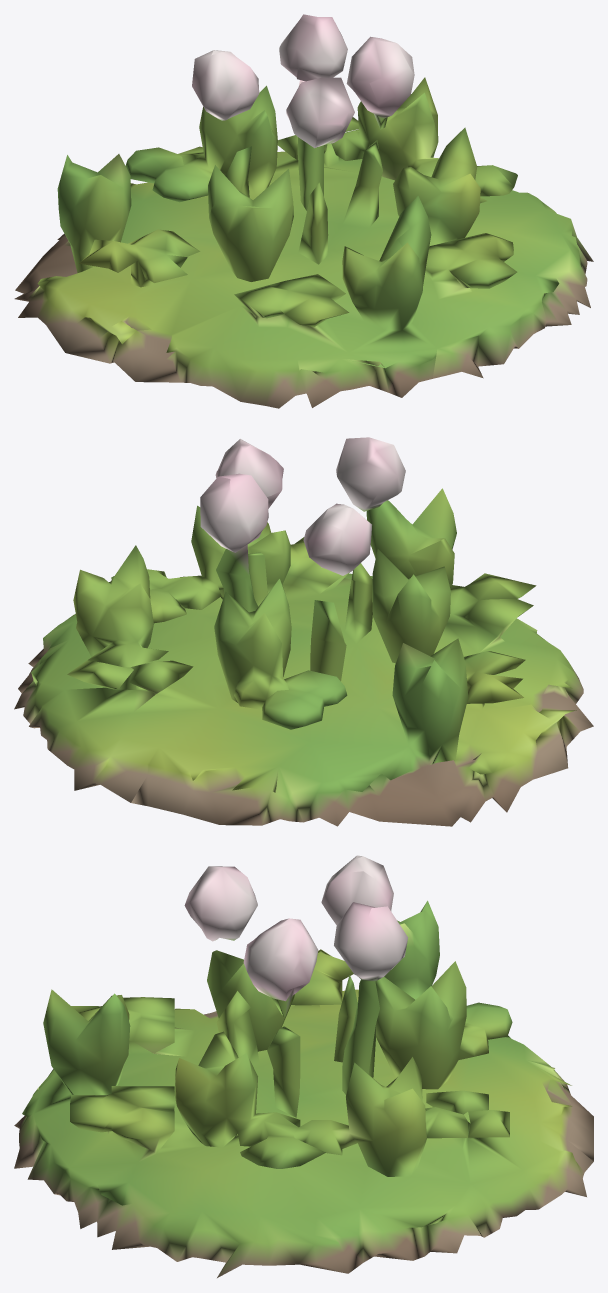
Rendered from grass-turf4.glb.
The picture shows the model from 3 angles, top to bottom: view 1: azimuth 30°, elevation 25°; view 2: azimuth 150°, elevation 25°; view 3: azimuth 270°, elevation 25°; orthographic projection. The views are drawn at different scales.
Parts seen in each view (by area): view 1: body; view 2: body; view 3: body.
Part boxes in pixels (x1=…): body: x1=14, y1=14, x2=593, y2=408; body: x1=14, y1=437, x2=593, y2=826; body: x1=14, y1=855, x2=593, y2=1277.
Size of the model in its own units: 0.6054 by 0.2902 by 0.5666.
